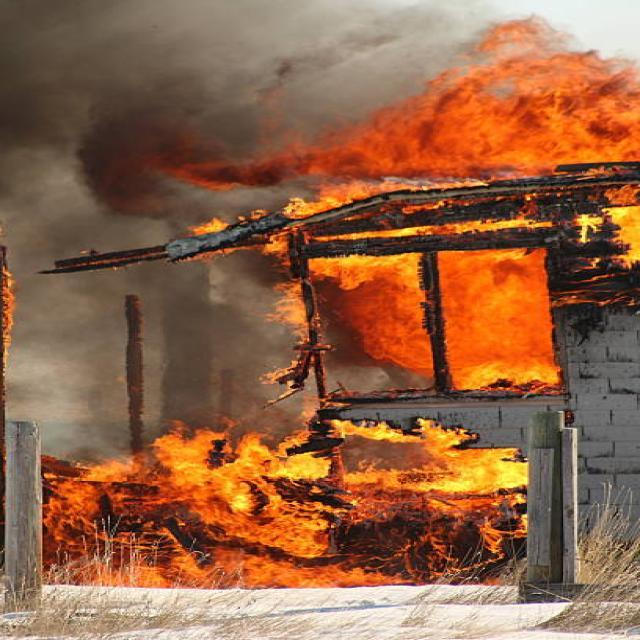Fire: (34, 424, 531, 578), (188, 22, 640, 178), (288, 223, 560, 394)
Smoke: (0, 0, 365, 241)
